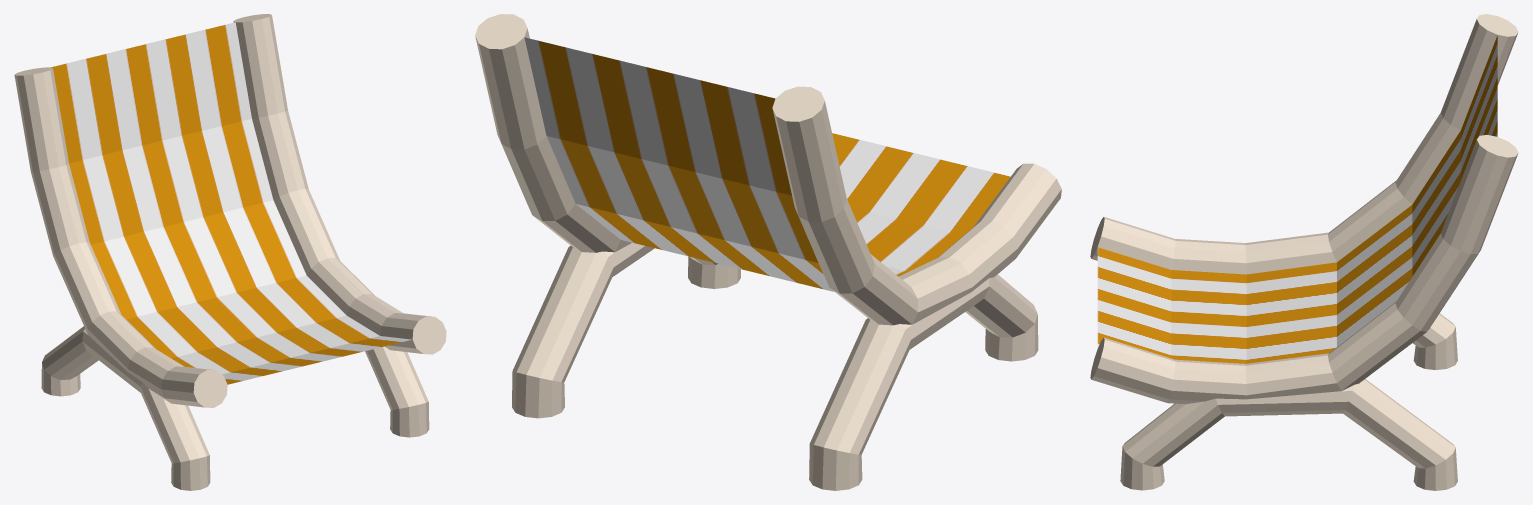
File: beach chair orange.fbx
The picture shows the model from 3 angles, left to right: view 1: azimuth 30°, elevation 25°; view 2: azimuth 150°, elevation 25°; view 3: azimuth 270°, elevation 25°; orthographic projection. The views are drawn at different scales.
Parts seen in each view (by area): view 1: cloth; view 2: cloth; view 3: cloth.
Boxes of the visible parts, x1,y1,x2,y2 form: cloth: (14,14,446,490); cloth: (475,14,1061,490); cloth: (1090,14,1518,490).
Size of the model in its own units: 1.04 by 1.19 by 1.35.
2 materials, 1 textured.
